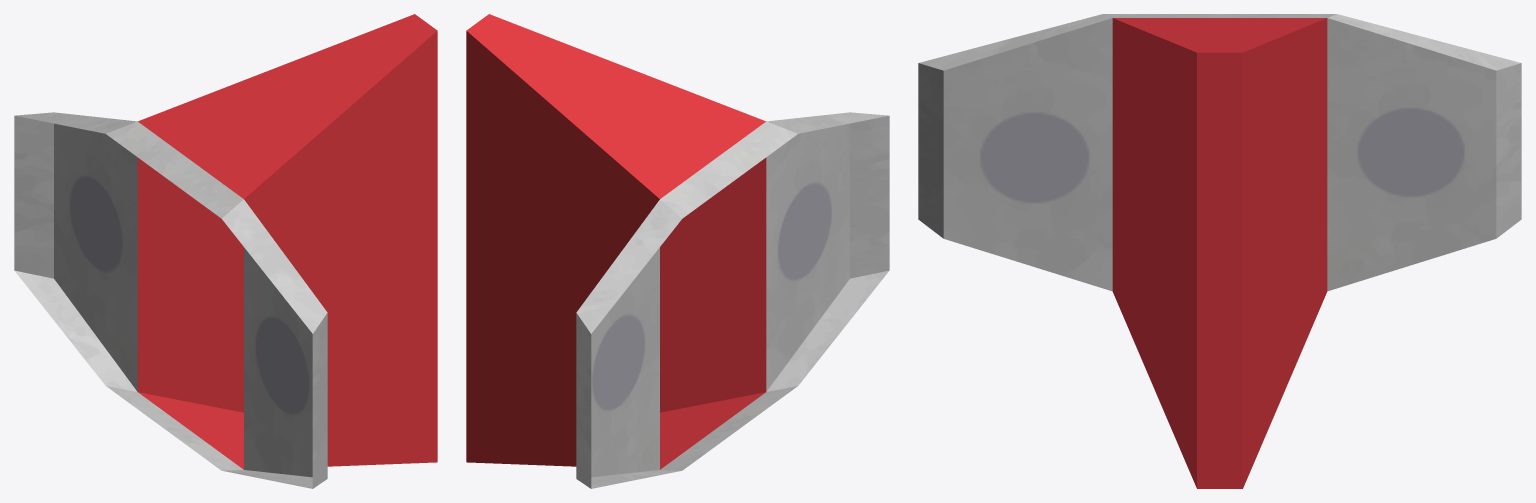
File: HighwayRedLight.fbx
The picture shows the model from 3 angles, left to right: view 1: azimuth 30°, elevation 25°; view 2: azimuth 150°, elevation 25°; view 3: azimuth 270°, elevation 25°; orthographic projection.
Parts seen in each view (by area): view 1: HighwayRedLight; view 2: HighwayRedLight; view 3: HighwayRedLight.
Part boxes in pixels (x1,y1,x2,y2): HighwayRedLight: (14,14,437,488); HighwayRedLight: (466,14,889,488); HighwayRedLight: (918,14,1521,488).
Size of the model in its own units: 96.36 by 151 by 190.
